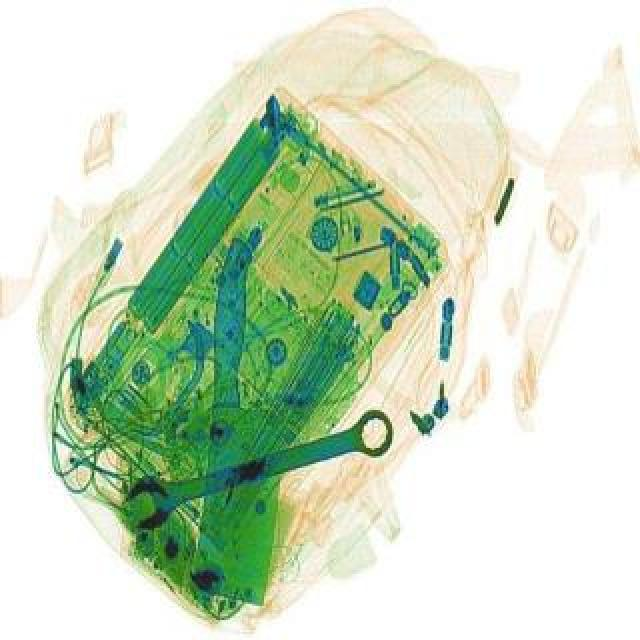knife: (180, 234, 310, 604)
scissors: (114, 396, 402, 530)
